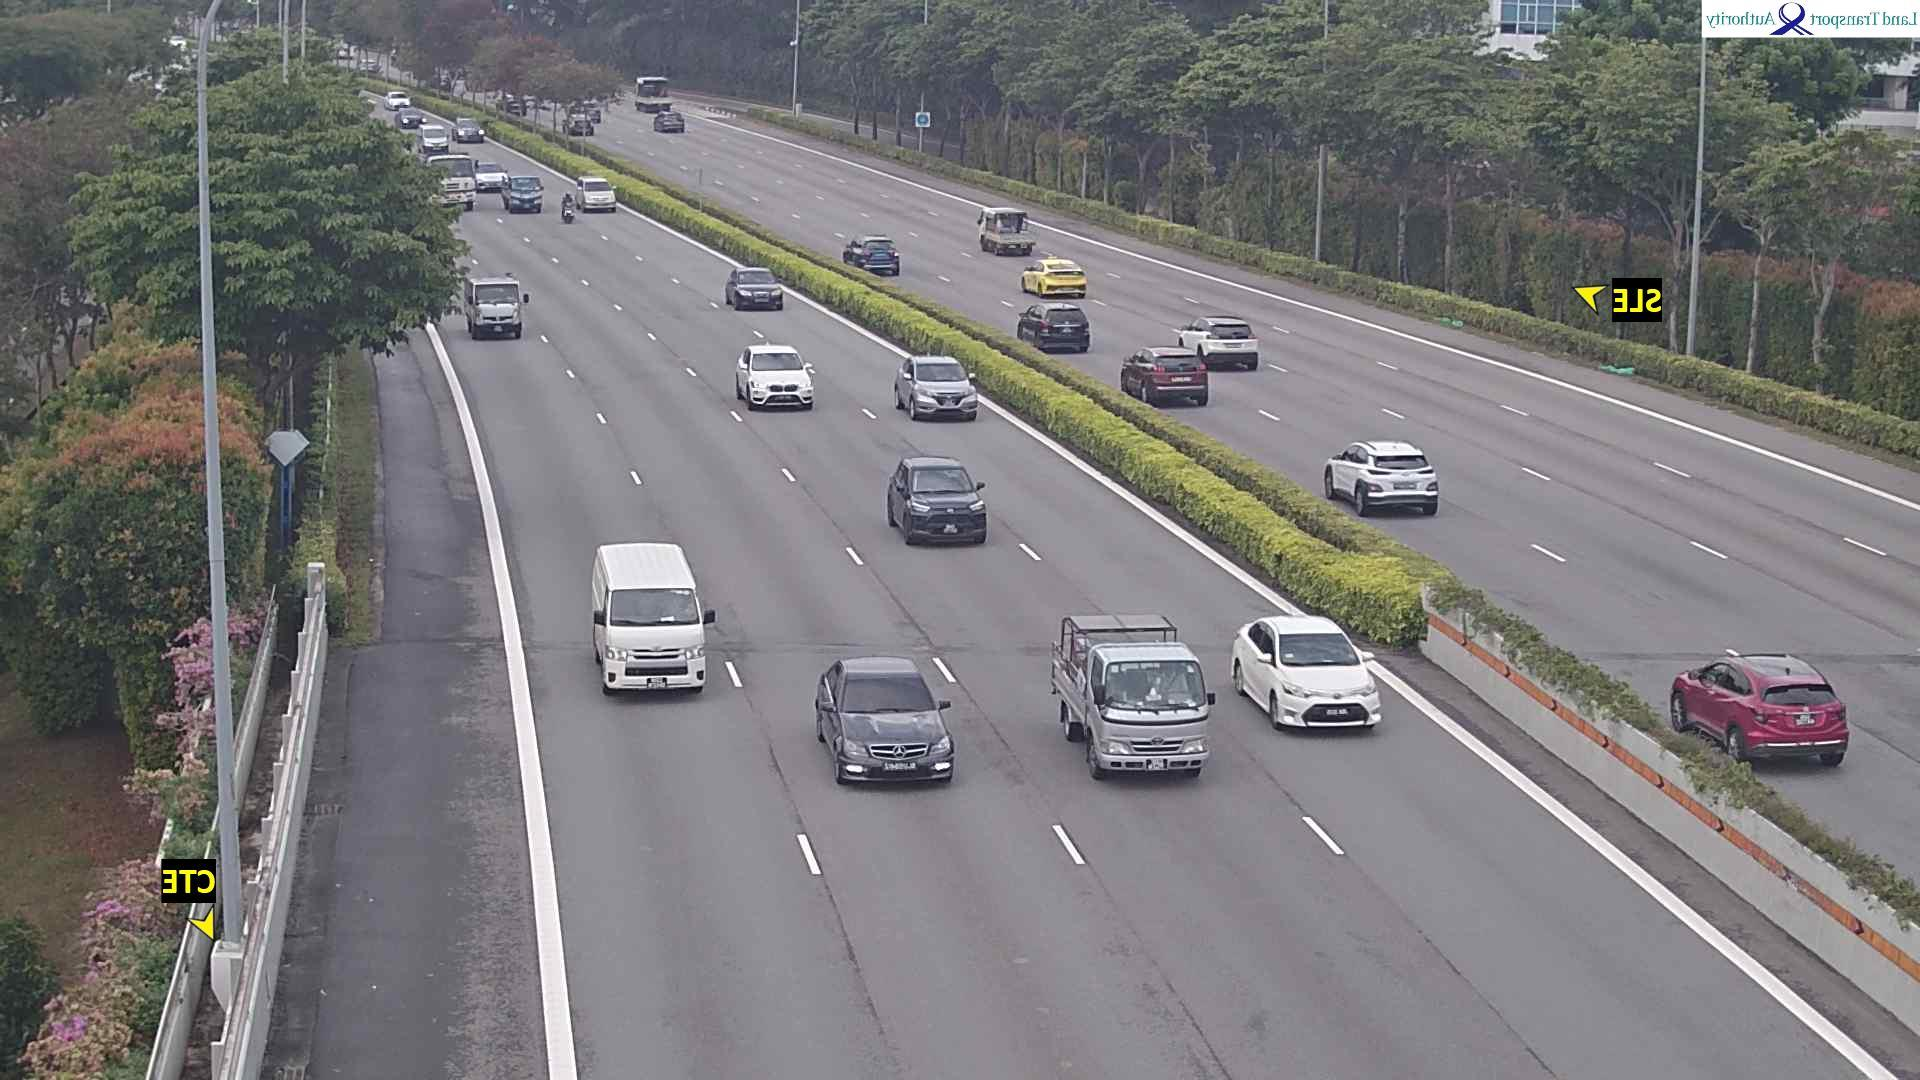incoming: (814, 665, 955, 795), (1086, 653, 1219, 788), (586, 579, 723, 702), (1254, 623, 1385, 734), (895, 459, 989, 552), (737, 349, 818, 413), (900, 361, 980, 424), (464, 280, 532, 342), (426, 154, 478, 212), (726, 269, 787, 311), (506, 175, 545, 215), (576, 180, 617, 213), (474, 160, 509, 192), (418, 125, 451, 154), (455, 116, 485, 144), (399, 108, 428, 129), (388, 92, 413, 111), (560, 200, 577, 226)
